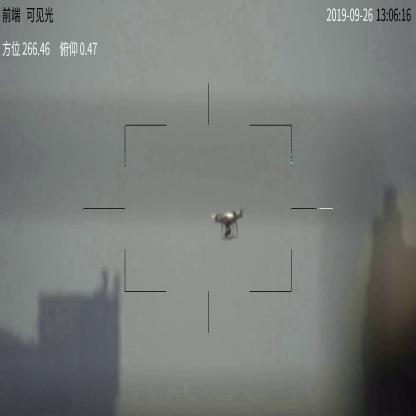uav: (209, 206, 249, 240)
